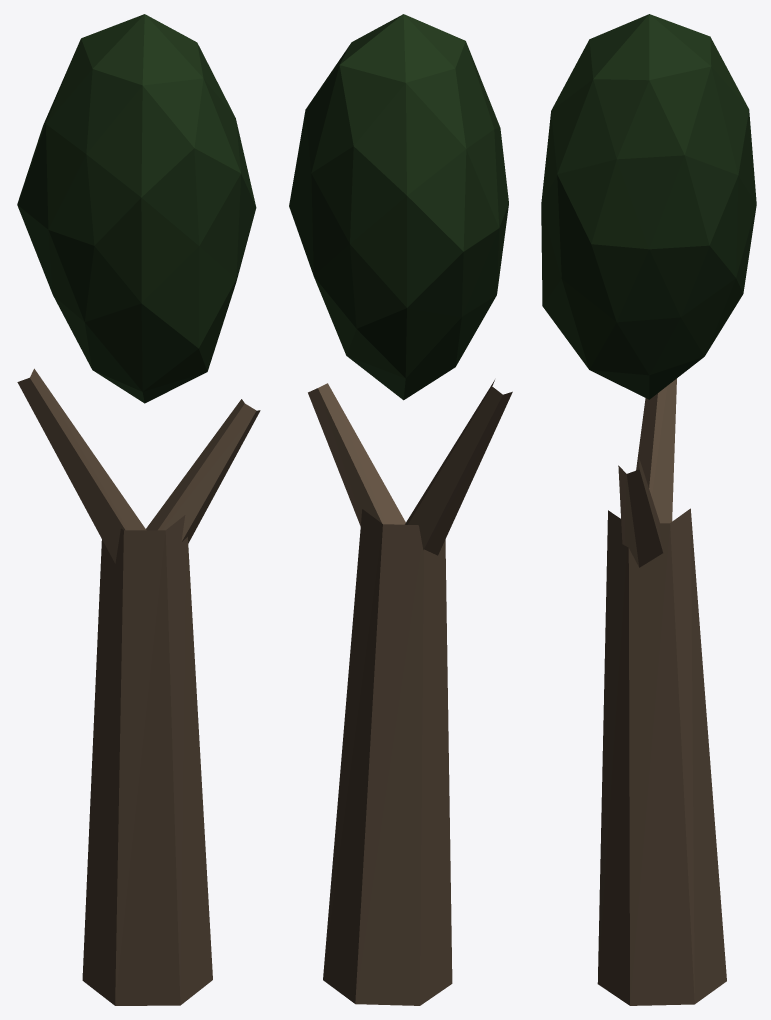
Rendered from 1924-Street-trees-and-bushes-broadleafTall.glb.
3 renders of one model, left to right at view 1: azimuth 30°, elevation 25°; view 2: azimuth 150°, elevation 25°; view 3: azimuth 270°, elevation 25°, orthographic.
Visible parts, largest first — view 1: Street trees and bushes/broadleafTall; view 2: Street trees and bushes/broadleafTall; view 3: Street trees and bushes/broadleafTall.
Part boxes in pixels (<box>): Street trees and bushes/broadleafTall: <box>17,14,260,1005</box>; Street trees and bushes/broadleafTall: <box>289,14,512,1005</box>; Street trees and bushes/broadleafTall: <box>541,14,756,1005</box>.
Size of the model in its own units: 0.1741 by 0.7267 by 0.147.
